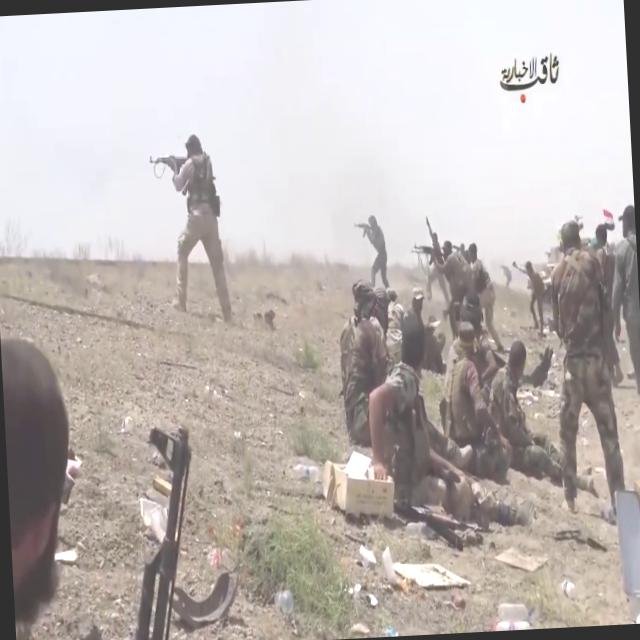long weapon: (144, 143, 190, 183), (353, 220, 370, 245)
